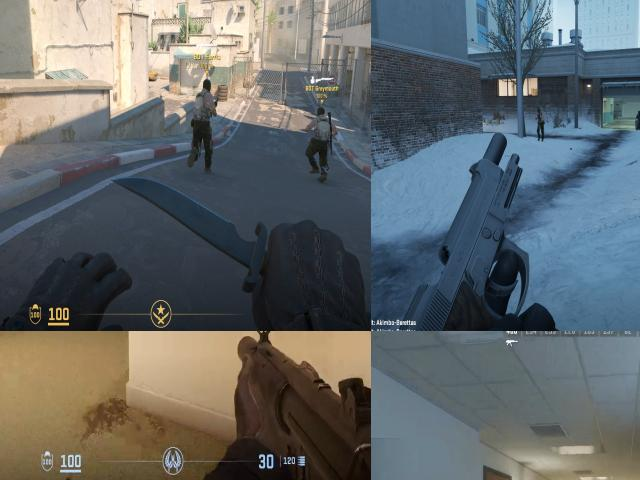CT: (636, 109, 640, 130)
CT-Head: (637, 109, 640, 115)
T: (189, 78, 220, 168), (310, 107, 329, 174), (536, 108, 544, 137)
T-Head: (203, 80, 212, 93), (317, 107, 327, 118), (537, 109, 542, 115)
